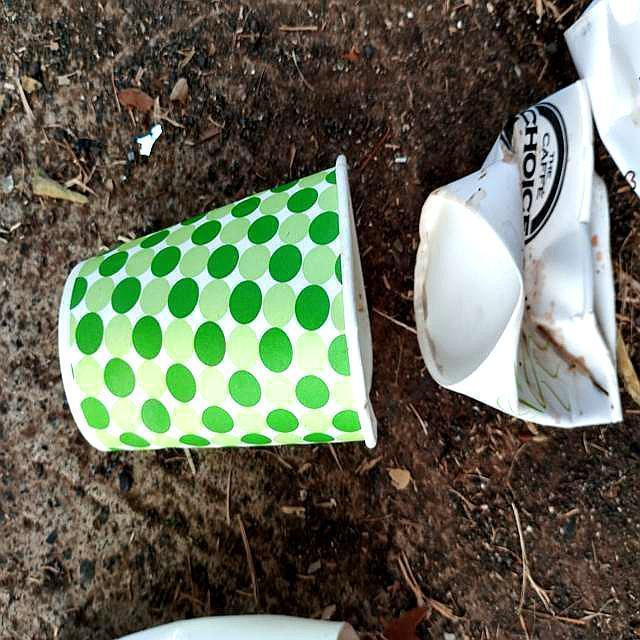Biodegradable: (52, 144, 394, 458), (419, 81, 640, 433), (119, 609, 359, 640)
